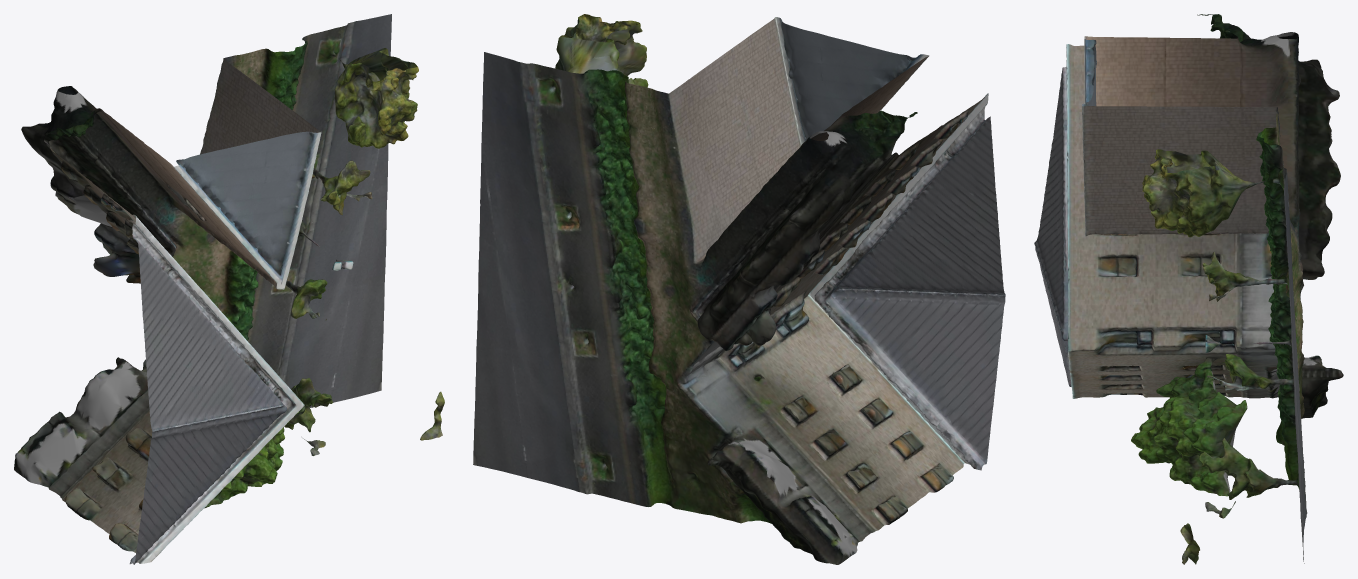
The model's file is Tile_+015_+020.fbx.
The picture shows the model from 3 angles, left to right: view 1: azimuth 30°, elevation 25°; view 2: azimuth 150°, elevation 25°; view 3: azimuth 270°, elevation 25°; orthographic projection. The views are drawn at different scales.
Parts seen in each view (by area): view 1: DefaultName; view 2: DefaultName; view 3: DefaultName.
Boxes of the visible parts, <box> form: DefaultName: <box>14,14,444,564</box>; DefaultName: <box>473,14,1005,564</box>; DefaultName: <box>1034,14,1343,564</box>.
Bounding box in the file's own units: 22.54 × 22.54 × 16.83.
